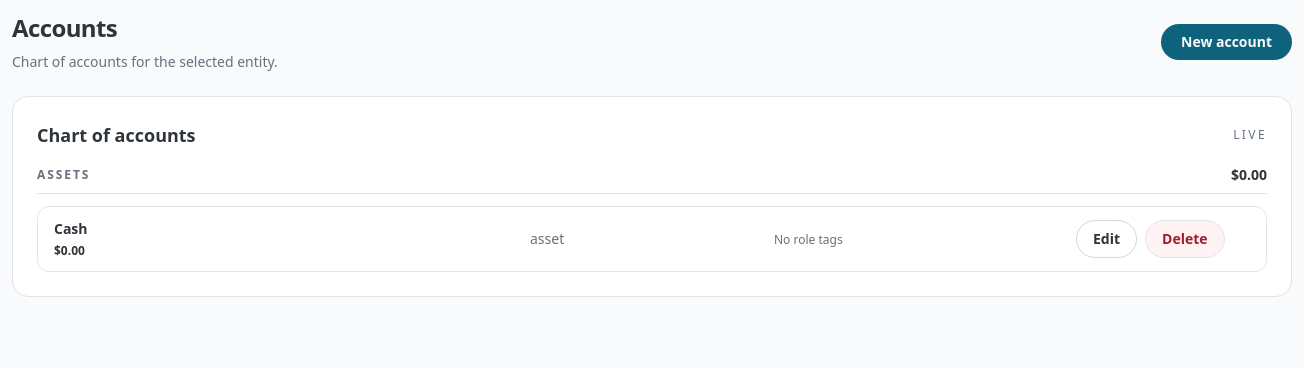
Test case: Accounts page › rolls back account deletion when the API fails
The width and height of the screenshot is (1304, 368).
Check: the text "Cash" is shown, box top-left (54, 219), bottom-right (88, 239)
Click the button "Delete".
click(1185, 239)  # box top-left (1145, 220), bottom-right (1225, 258)
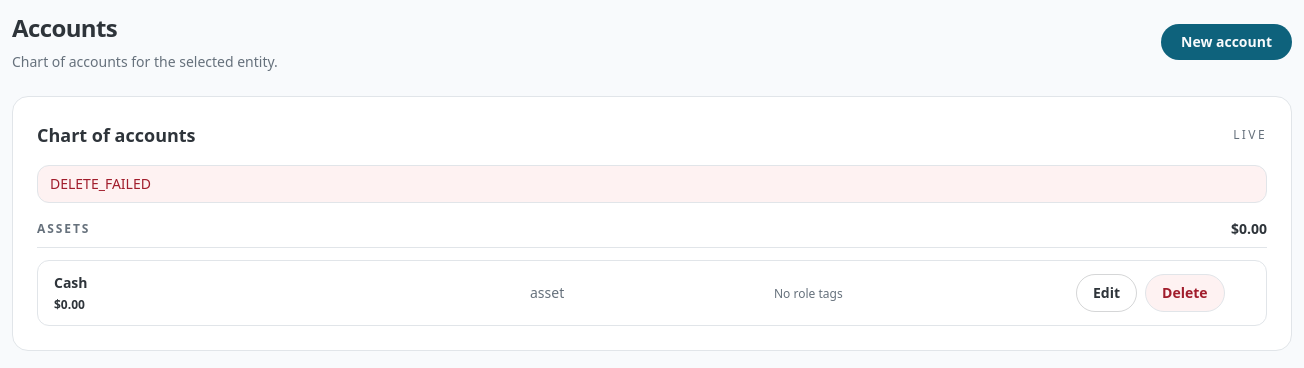
Check: the text "Cash" is shown, box top-left (54, 273), bottom-right (88, 293)
Check: the text "DELETE_FAILED" is shown, box top-left (50, 174), bottom-right (151, 193)
